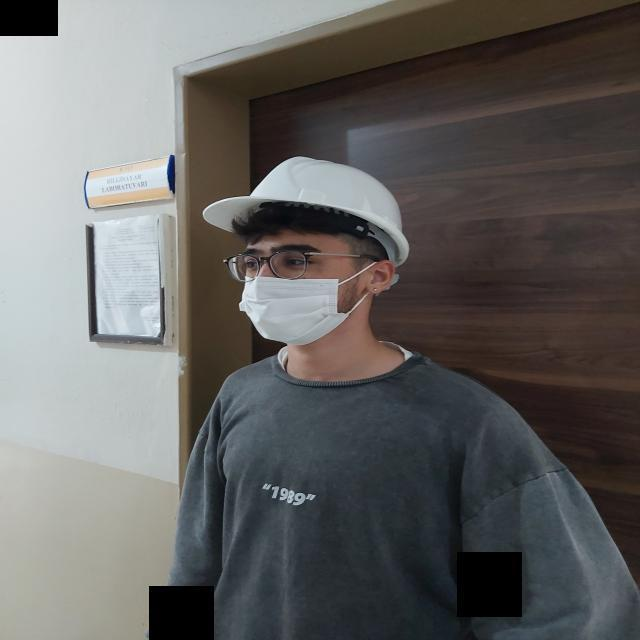helmet: (201, 155, 410, 267)
